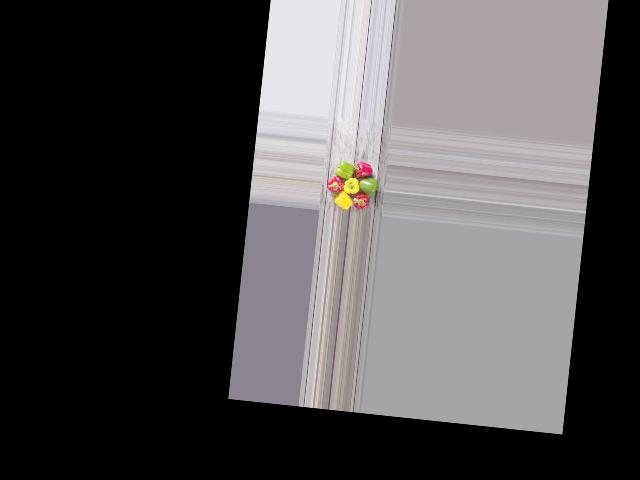bell_pepper: (348, 192, 369, 213)
